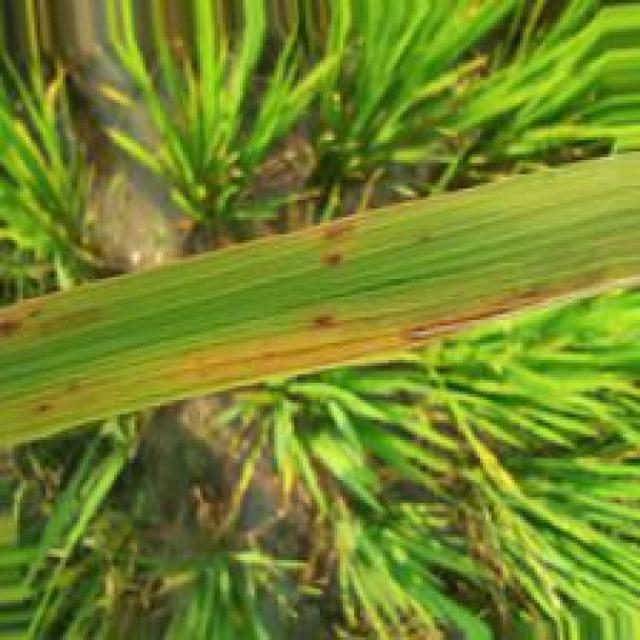Brown_Spot: (401, 287, 554, 346), (313, 215, 358, 246), (315, 247, 346, 271), (310, 313, 342, 331), (0, 321, 26, 343), (27, 402, 57, 418)
